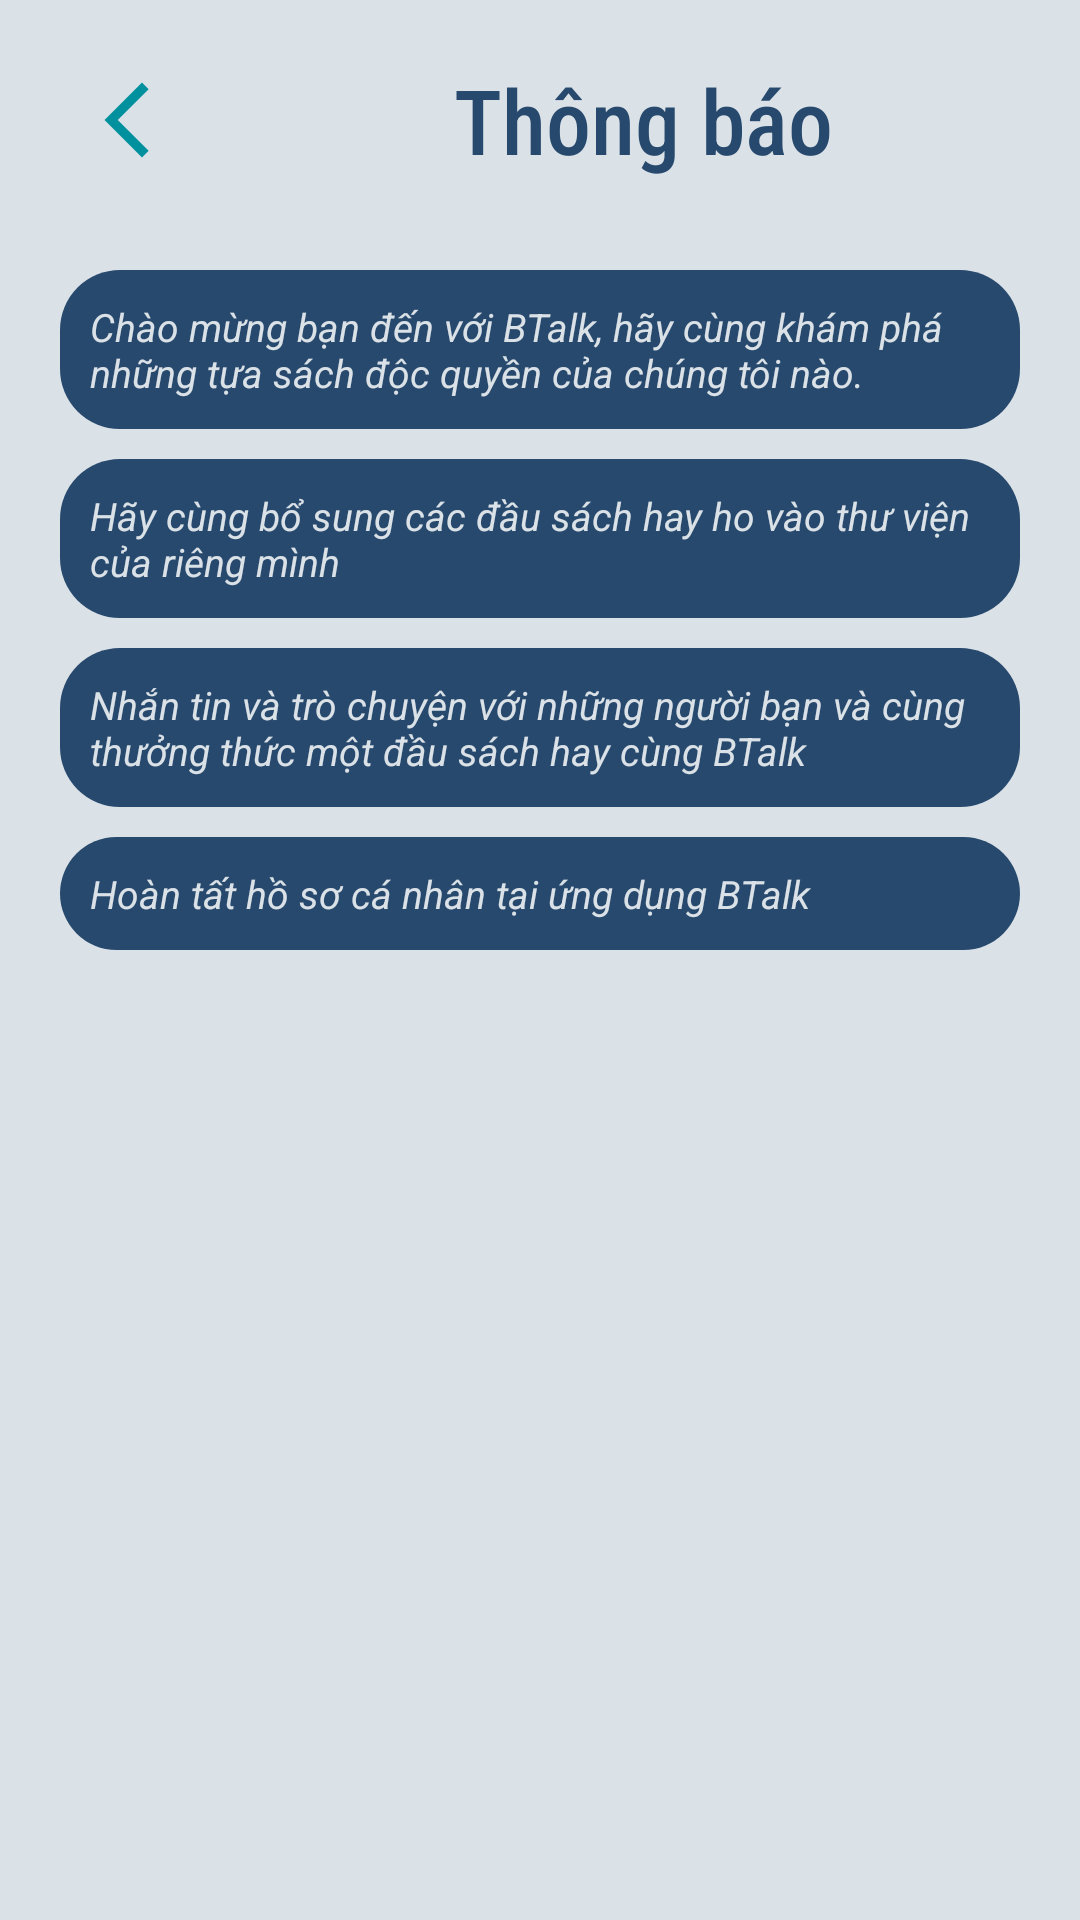

Where to tap for icons on this 1080*1920 app screen, as [x,y]:
back: [126,120]
